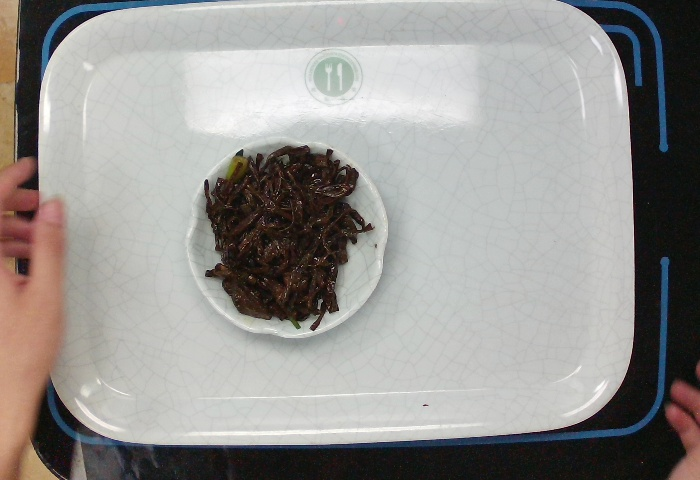JYsf-Ao_Yuan_Wan: (177, 130, 393, 346)
